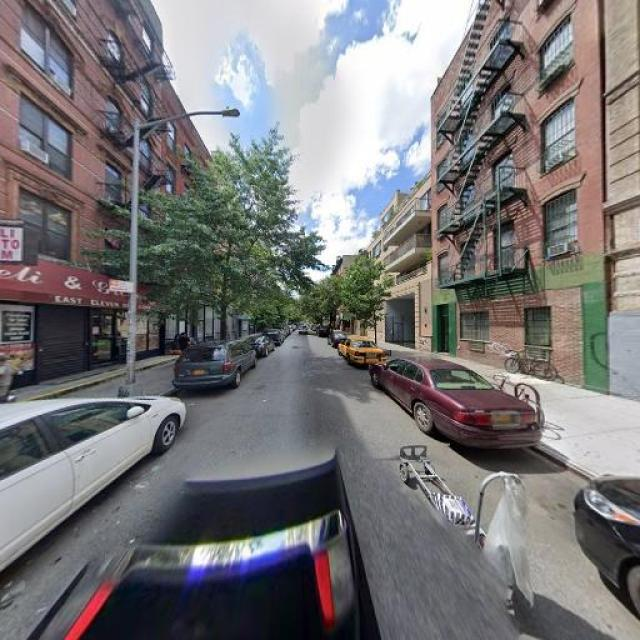Building: (435, 1, 604, 402), (1, 1, 159, 393), (612, 1, 640, 409)
